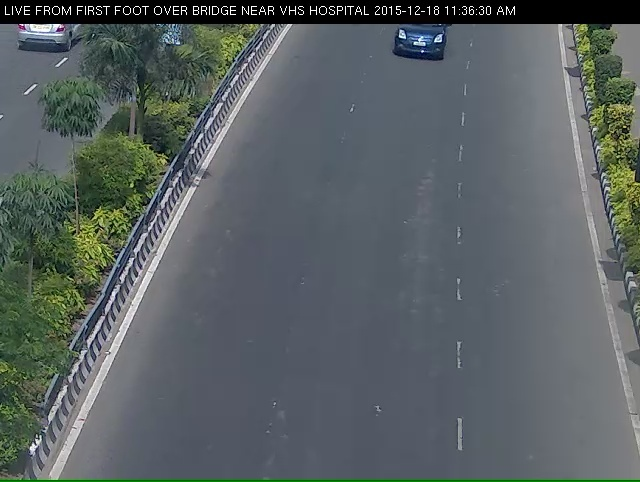Car: (388, 22, 455, 79)
